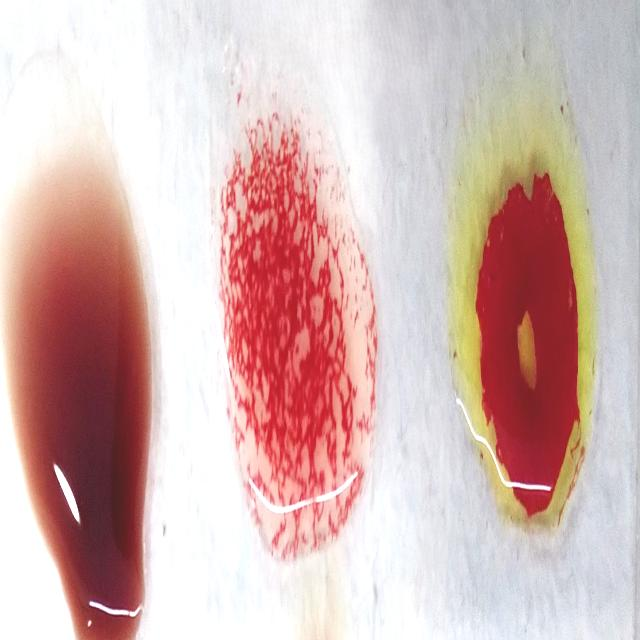B: (455, 77, 597, 534)
D: (209, 102, 369, 532)
